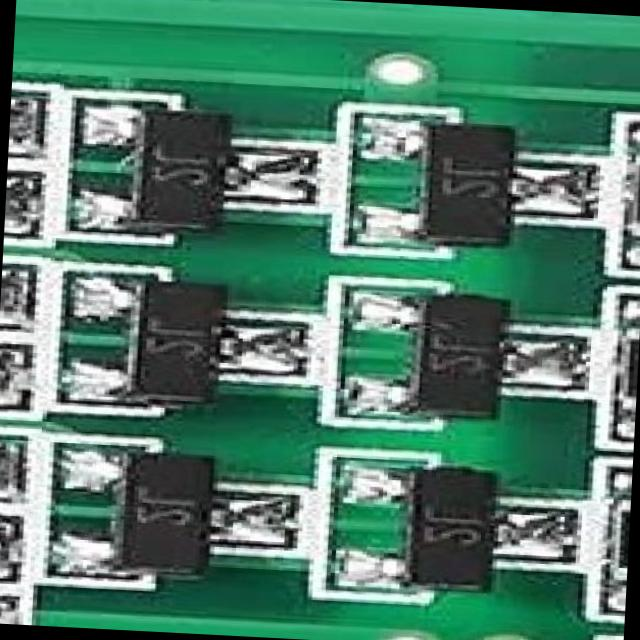transistor: (354, 286, 558, 427), (372, 114, 582, 250), (66, 436, 245, 590), (104, 101, 295, 241), (358, 456, 540, 601), (90, 261, 259, 415)
